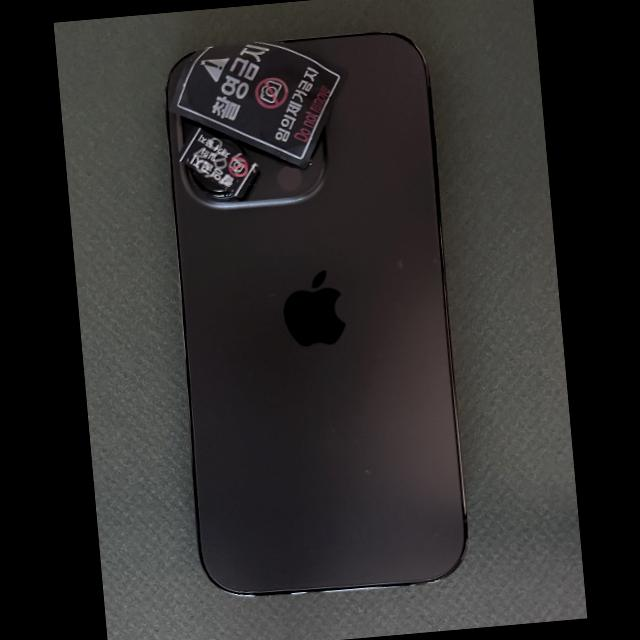lens: (189, 166, 234, 199)
phone: (167, 34, 466, 594)
sticker: (168, 39, 348, 169), (177, 126, 260, 198)
